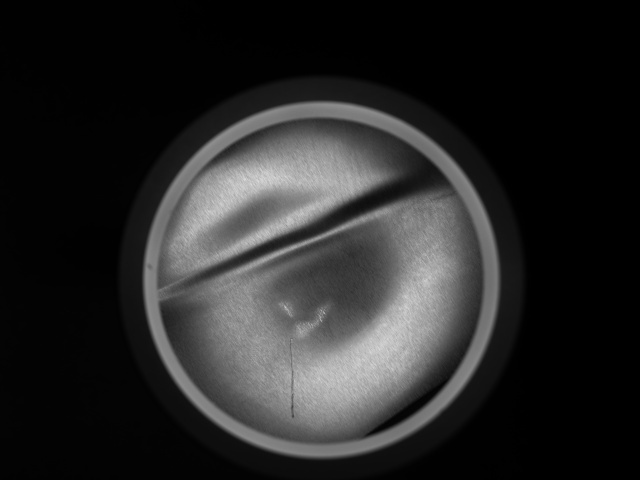ca_shang: (286, 335, 303, 425)
zhe_zhou: (202, 148, 448, 408)
